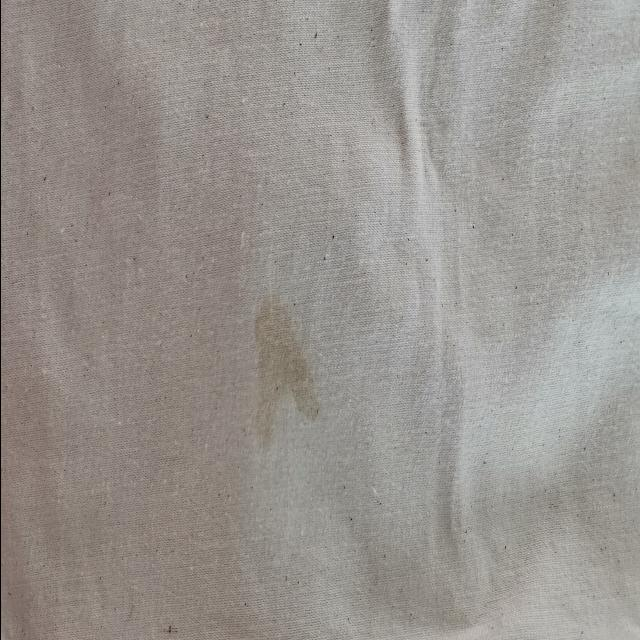taaaches: (241, 272, 325, 471)
